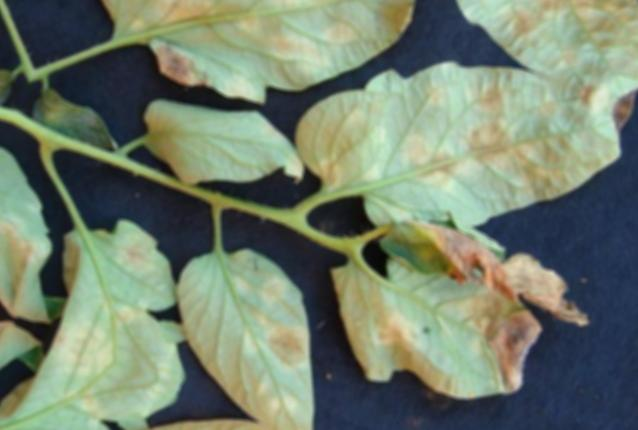Tomato mold leaf: (256, 0, 638, 315), (48, 0, 458, 182), (133, 226, 376, 430), (298, 235, 541, 430), (22, 192, 247, 395), (112, 61, 314, 220), (0, 148, 102, 332)
